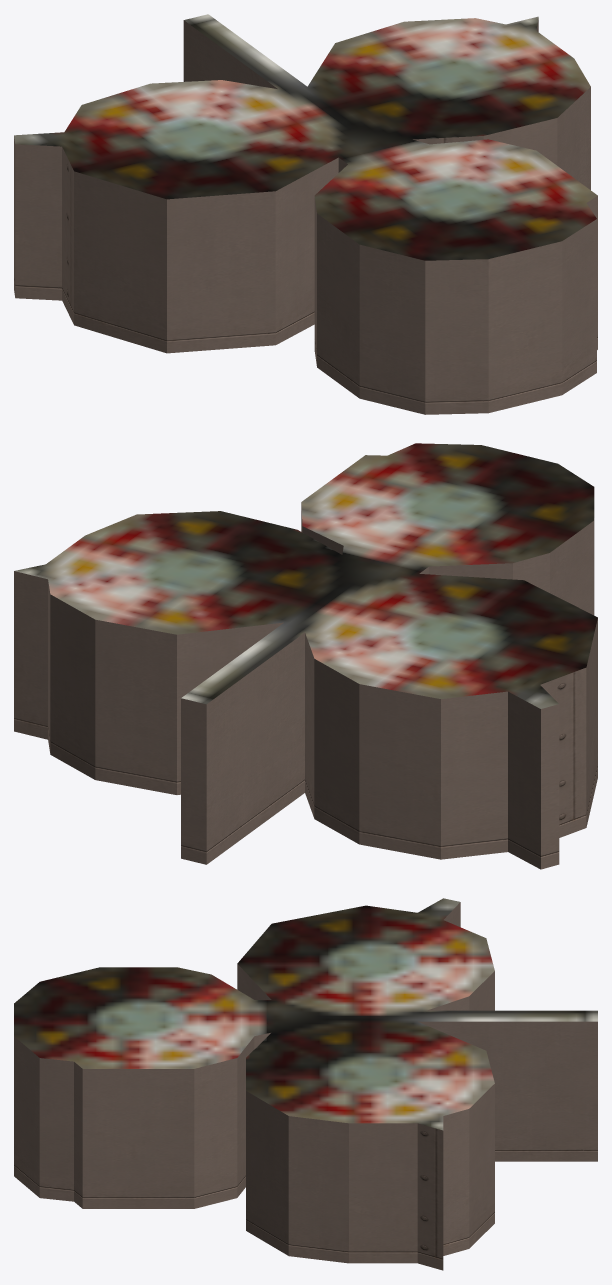
The model's file is fuel_tank_hard_35.glb.
The picture shows the model from 3 angles, top to bottom: view 1: azimuth 30°, elevation 25°; view 2: azimuth 150°, elevation 25°; view 3: azimuth 270°, elevation 25°; orthographic projection. The views are drawn at different scales.
Parts seen in each view (by area): view 1: buildings/saxarba/fuel_tanks/fuel_tank_hard_35; view 2: buildings/saxarba/fuel_tanks/fuel_tank_hard_35; view 3: buildings/saxarba/fuel_tanks/fuel_tank_hard_35.
Part boxes in pixels (<box>): buildings/saxarba/fuel_tanks/fuel_tank_hard_35: <box>14,14,597,414</box>; buildings/saxarba/fuel_tanks/fuel_tank_hard_35: <box>14,443,597,869</box>; buildings/saxarba/fuel_tanks/fuel_tank_hard_35: <box>14,898,597,1270</box>.
Bounding box in the file's own units: 64 × 18 × 68.
